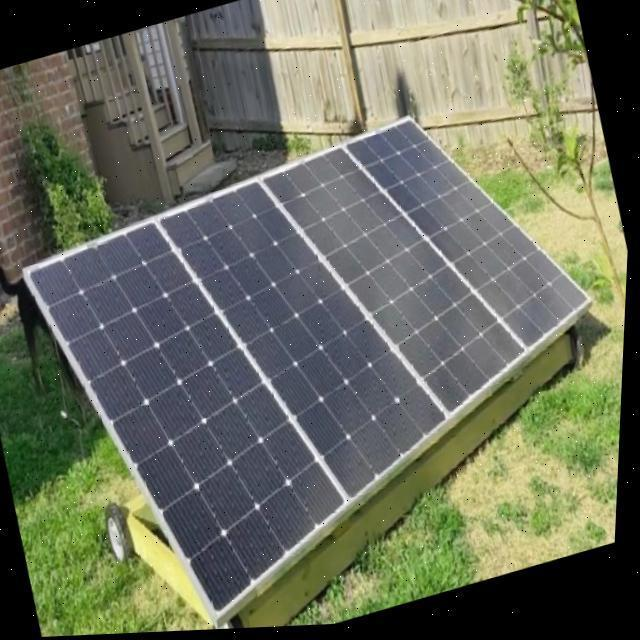Normal Solar Panel: (2, 78, 636, 639)
